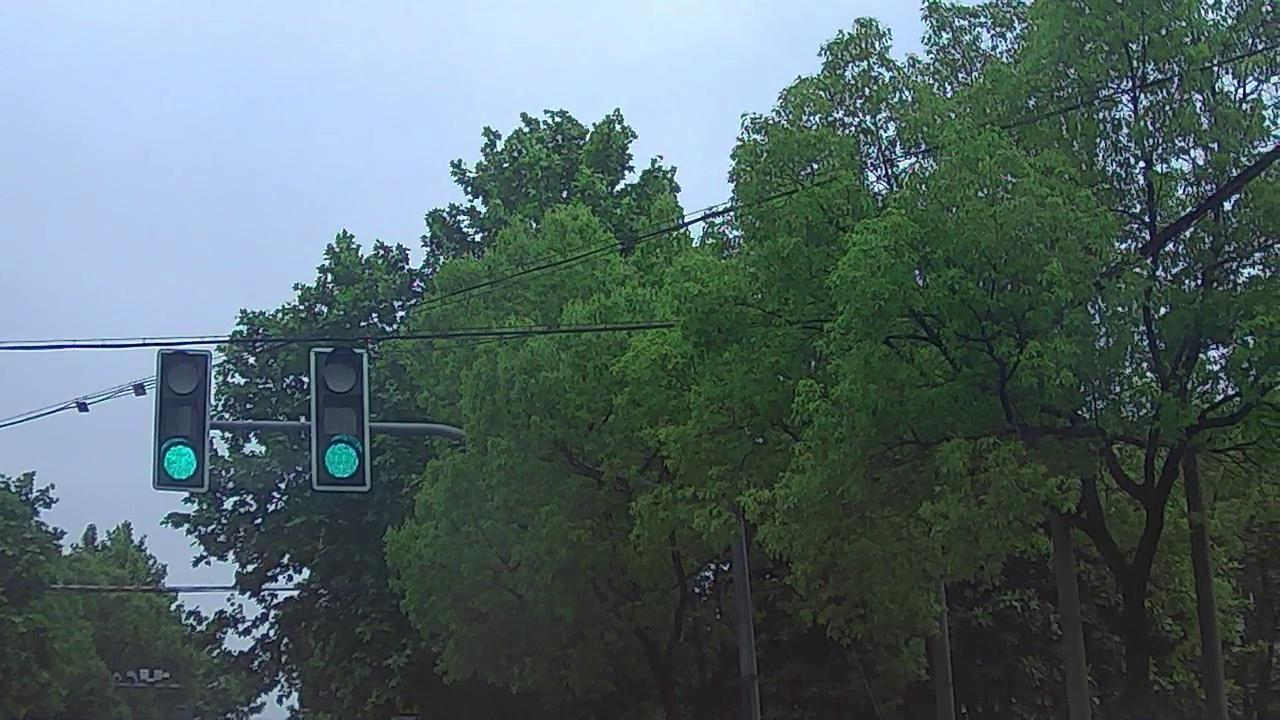traffic_light: (315, 352, 368, 488), (162, 351, 207, 486)
